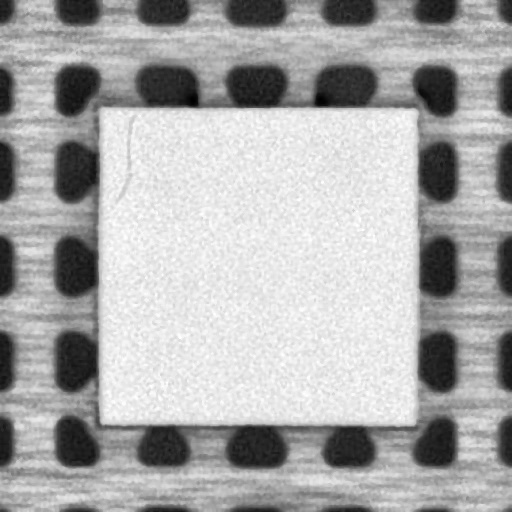DIE_CRACK: (110, 112, 137, 204)
